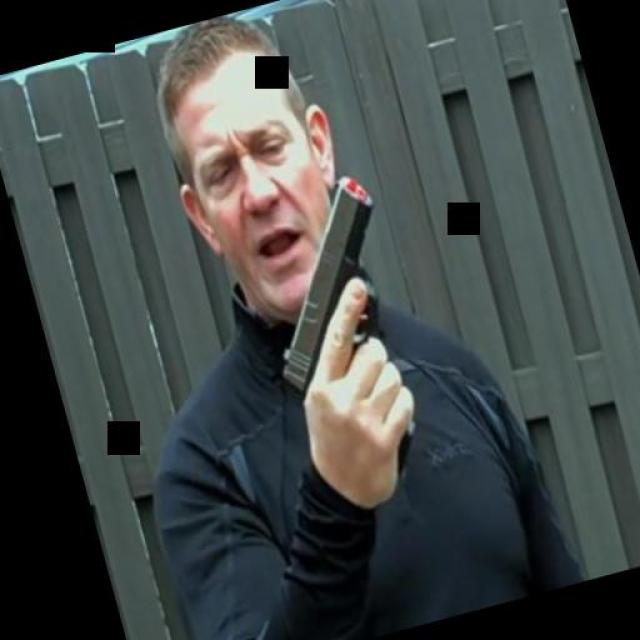gun: (231, 164, 435, 460)
